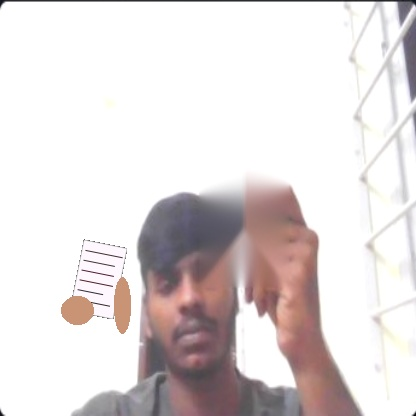cheat_chit: (69, 239, 127, 319)
